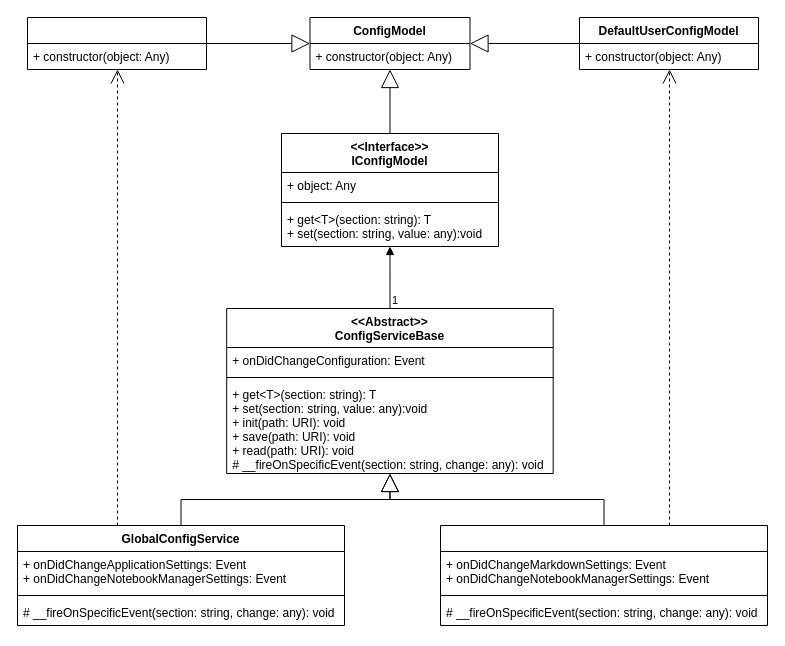
The diagram is 785 pixels wide and 646 high, and some of its shapes have lost their labels. Here are the shapes that lost their labels. From the top down, the box of each, then its label:
(26, 16, 206, 70): DefaultGlobalConfigModel
(440, 524, 768, 626): UserConfigService
